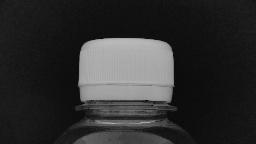Good Cap: (70, 33, 180, 114)
